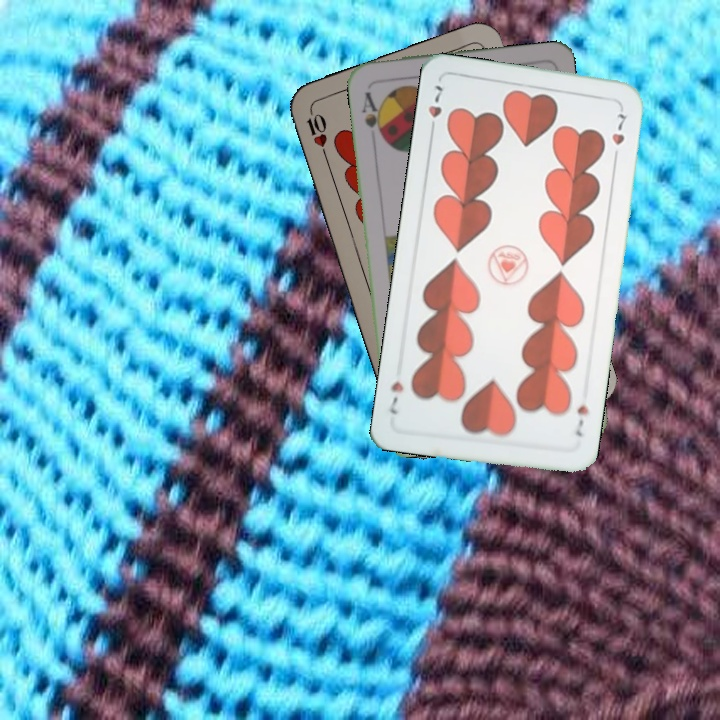H10: (302, 103, 330, 161)
H7: (424, 81, 446, 137), (572, 400, 591, 439)
SA: (357, 88, 386, 142)
